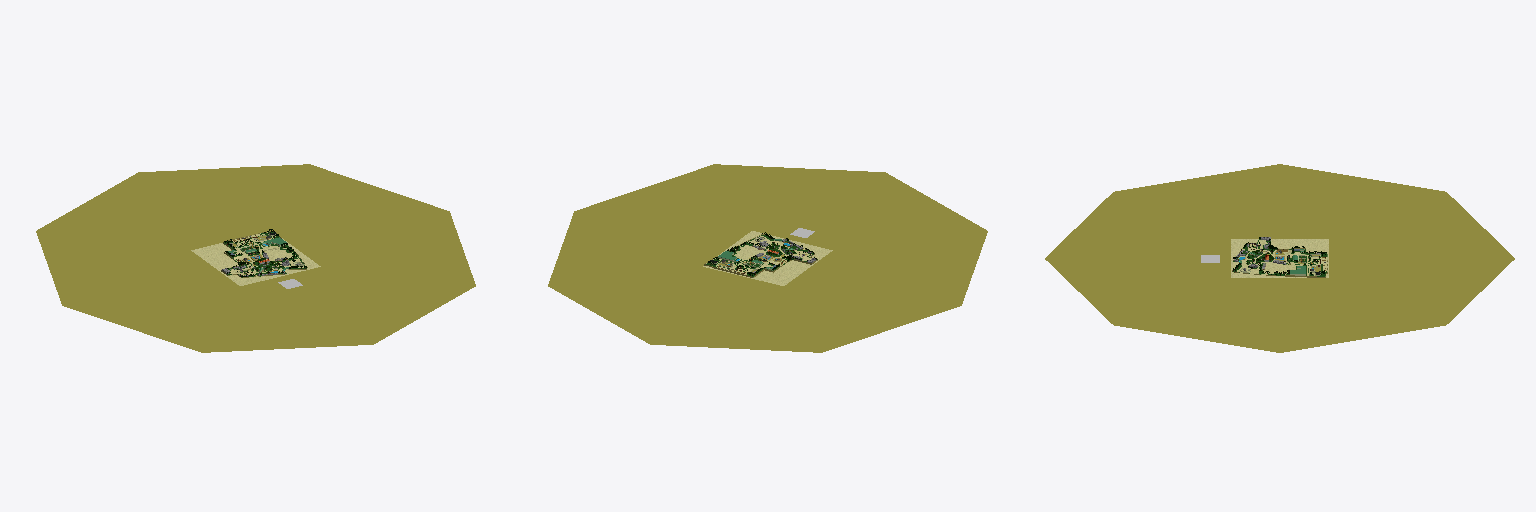
The picture shows the model from 3 angles: view 1: azimuth 30°, elevation 25°; view 2: azimuth 150°, elevation 25°; view 3: azimuth 270°, elevation 25°; orthographic projection.
Visible parts, largest first — view 1: ground.blank.001_Plane.011, ground.tex_Plane.004; view 2: ground.blank.001_Plane.011, ground.tex_Plane.004; view 3: ground.blank.001_Plane.011, ground.tex_Plane.004.
Part boxes in pixels (x1,y1,x2,y2): ground.blank.001_Plane.011: (36, 164, 475, 352); ground.tex_Plane.004: (191, 232, 320, 285); ground.blank.001_Plane.011: (548, 164, 987, 352); ground.tex_Plane.004: (703, 231, 832, 285); ground.blank.001_Plane.011: (1045, 164, 1514, 352); ground.tex_Plane.004: (1231, 239, 1328, 277).
Bounding box in the file's own units: 47.62 × 0.6072 × 50.13.
43 materials, 15 textured.